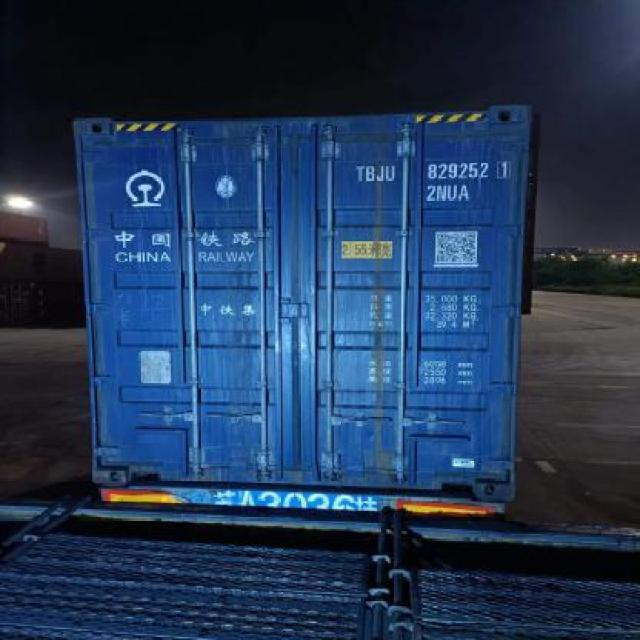ISO: (430, 184, 472, 202)
container_number: (352, 162, 514, 185)
